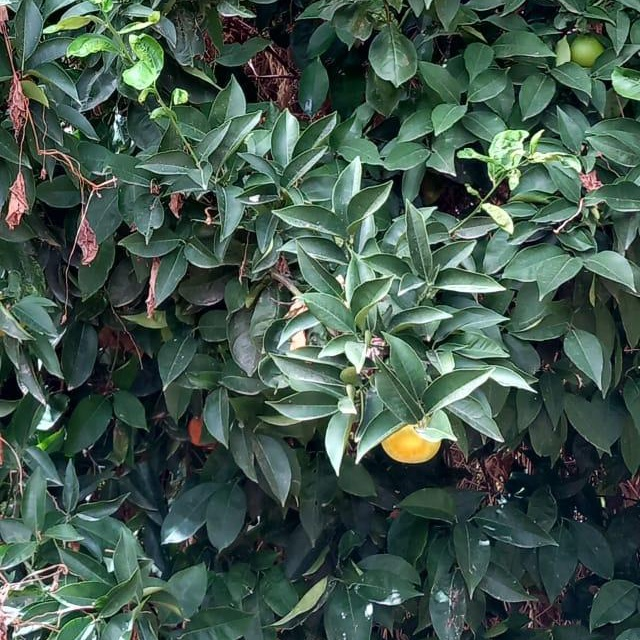orange: (377, 405, 441, 463), (187, 407, 227, 453), (562, 34, 606, 72)
